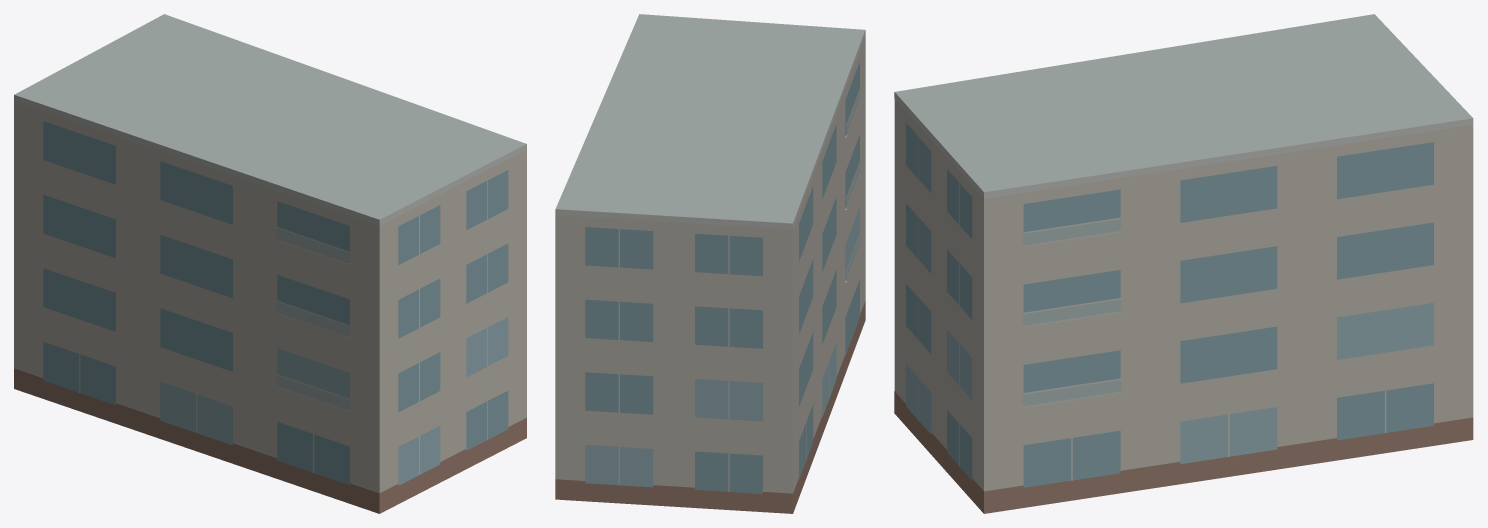
File: survey-upis-32862809.glb
3 views of the same model, side by side, from view 1: azimuth 30°, elevation 25°; view 2: azimuth 150°, elevation 25°; view 3: azimuth 270°, elevation 25° (orthographic). The views are drawn at different scales.
Parts seen in each view (by area): view 1: survey-upis-32862809.tmp; view 2: survey-upis-32862809.tmp; view 3: survey-upis-32862809.tmp.
Boxes of the visible parts, x1,y1,x2,y2 form: survey-upis-32862809.tmp: [14, 14, 526, 513]; survey-upis-32862809.tmp: [555, 14, 865, 513]; survey-upis-32862809.tmp: [894, 14, 1473, 513].
Bounding box in the file's own units: 14.52 × 12.2 × 19.91.
